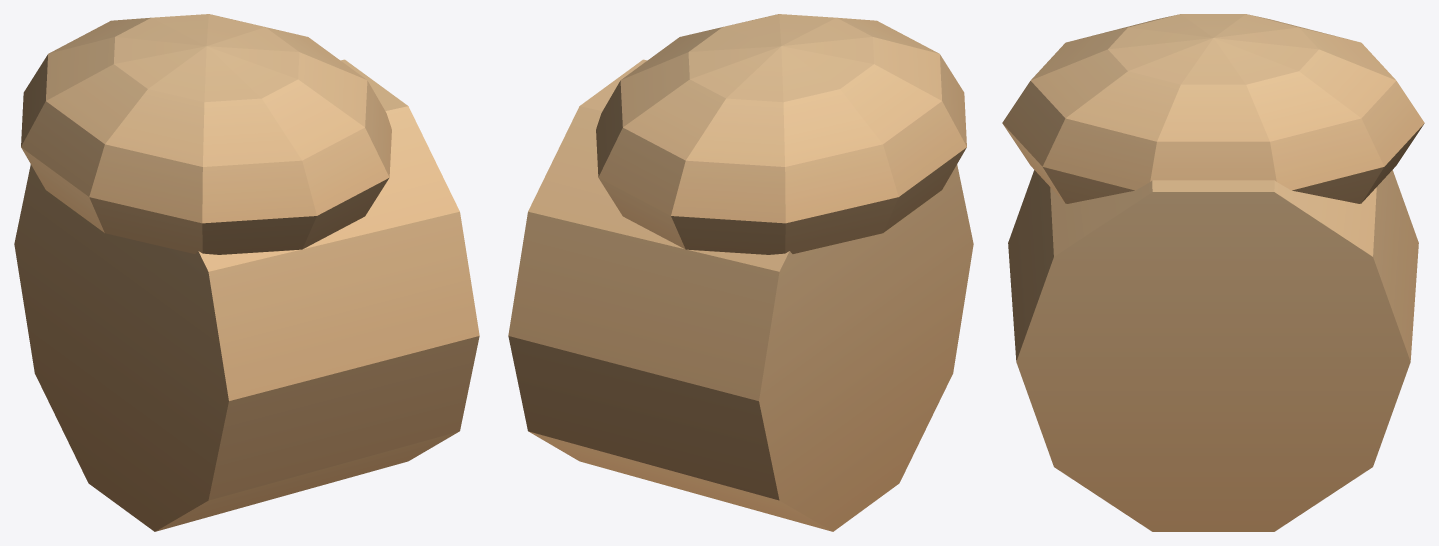
Rendered from leather_sleeves_upper.glb.
3 views of the same model, side by side, from view 1: azimuth 30°, elevation 25°; view 2: azimuth 150°, elevation 25°; view 3: azimuth 270°, elevation 25° (orthographic). The views are drawn at different scales.
Parts seen in each view (by area): view 1: leather_sleeves_upper; view 2: leather_sleeves_upper; view 3: leather_sleeves_upper.
Boxes of the visible parts, x1,y1,x2,y2 form: leather_sleeves_upper: [14, 14, 479, 531]; leather_sleeves_upper: [508, 14, 973, 531]; leather_sleeves_upper: [1002, 14, 1424, 531].
Size of the model in its own units: 0.3027 by 0.3964 by 0.36.
Materials: 1 (1 with a texture image).
